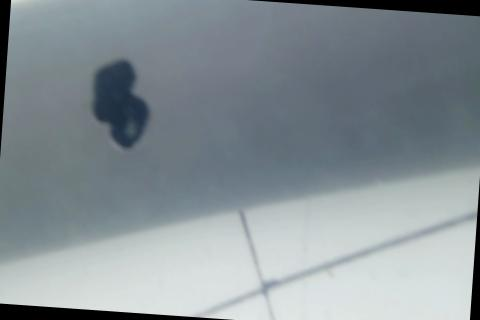kebocoran: (87, 56, 155, 153)
